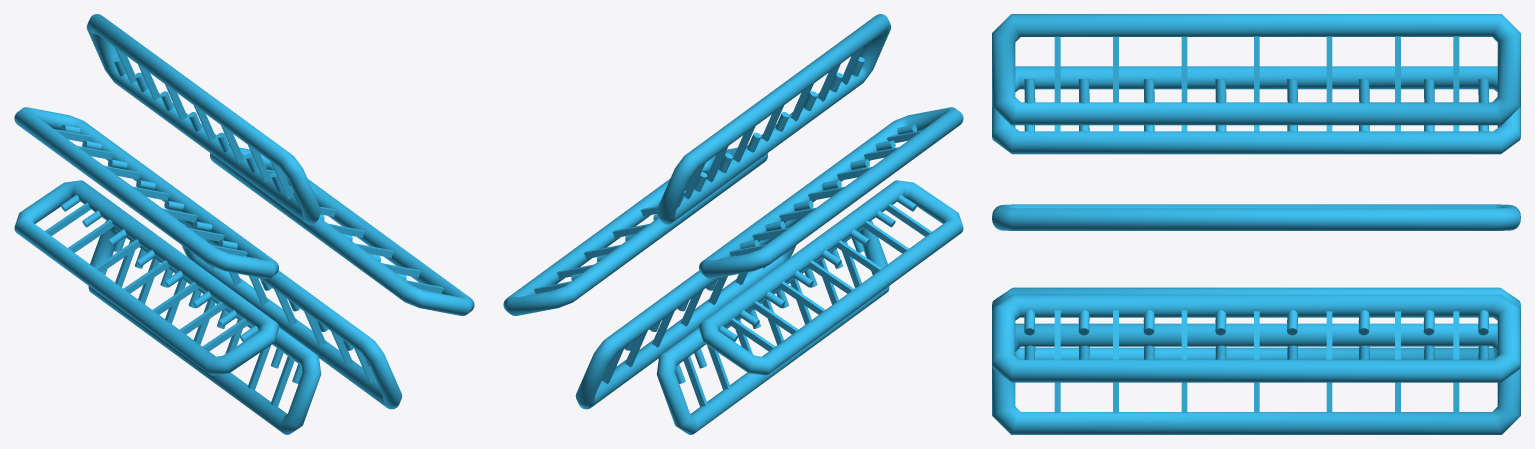
The model's file is magnet-toroid-barrel-cut-3.glb.
3 renders of one model, left to right at view 1: azimuth 30°, elevation 25°; view 2: azimuth 150°, elevation 25°; view 3: azimuth 270°, elevation 25°, orthographic. The views are drawn at different scales.
Parts seen in each view (by area): view 1: cut_3; view 2: cut_3; view 3: cut_3.
Part boxes in pixels (bbox=[...]): cut_3: bbox=[14, 14, 474, 434]; cut_3: bbox=[503, 14, 963, 434]; cut_3: bbox=[992, 14, 1520, 434].
Size of the model in its own units: 18.68 by 18.69 by 25.27.
